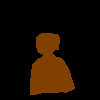vestito: (30, 33, 74, 94)
